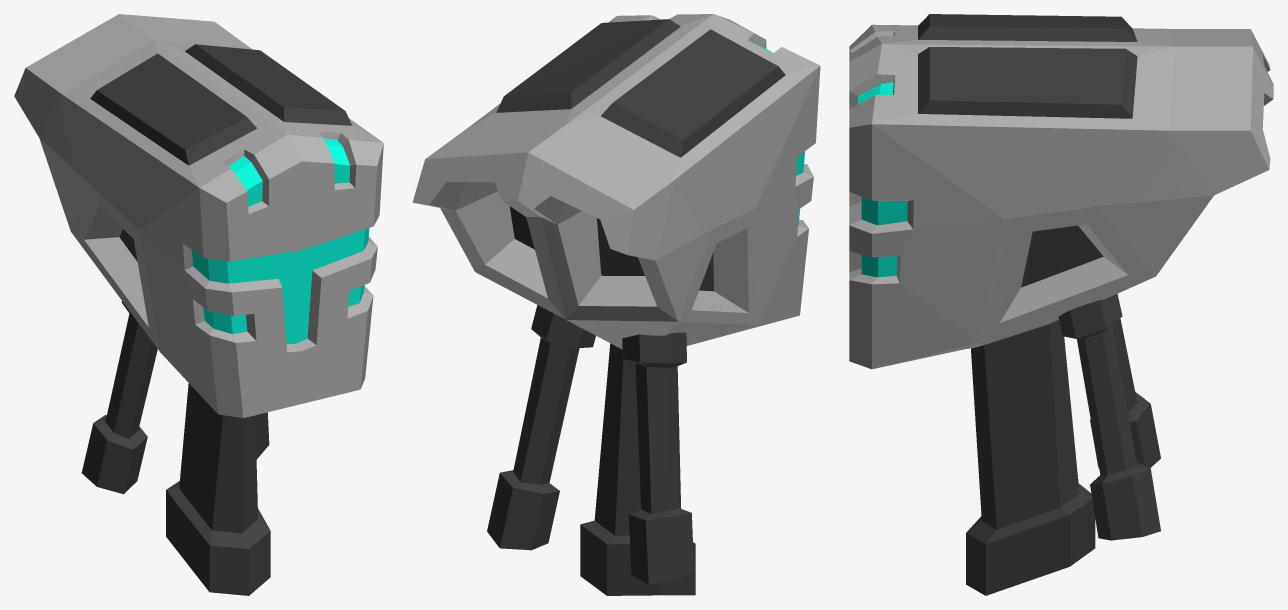
File: city_SM_Prop_Robotic_Part_06.gltf
3 views of the same model, side by side, from view 1: azimuth 30°, elevation 25°; view 2: azimuth 150°, elevation 25°; view 3: azimuth 270°, elevation 25° (orthographic). The views are drawn at different scales.
Parts seen in each view (by area): view 1: SM_Prop_Robotic_Part_06; view 2: SM_Prop_Robotic_Part_06; view 3: SM_Prop_Robotic_Part_06.
Part boxes in pixels (<box>): SM_Prop_Robotic_Part_06: <box>14,14,383,595</box>; SM_Prop_Robotic_Part_06: <box>412,14,820,595</box>; SM_Prop_Robotic_Part_06: <box>849,14,1273,595</box>.
Bounding box in the file's own units: 0.1714 × 0.4165 × 0.2926.
1 material, 1 textured.
